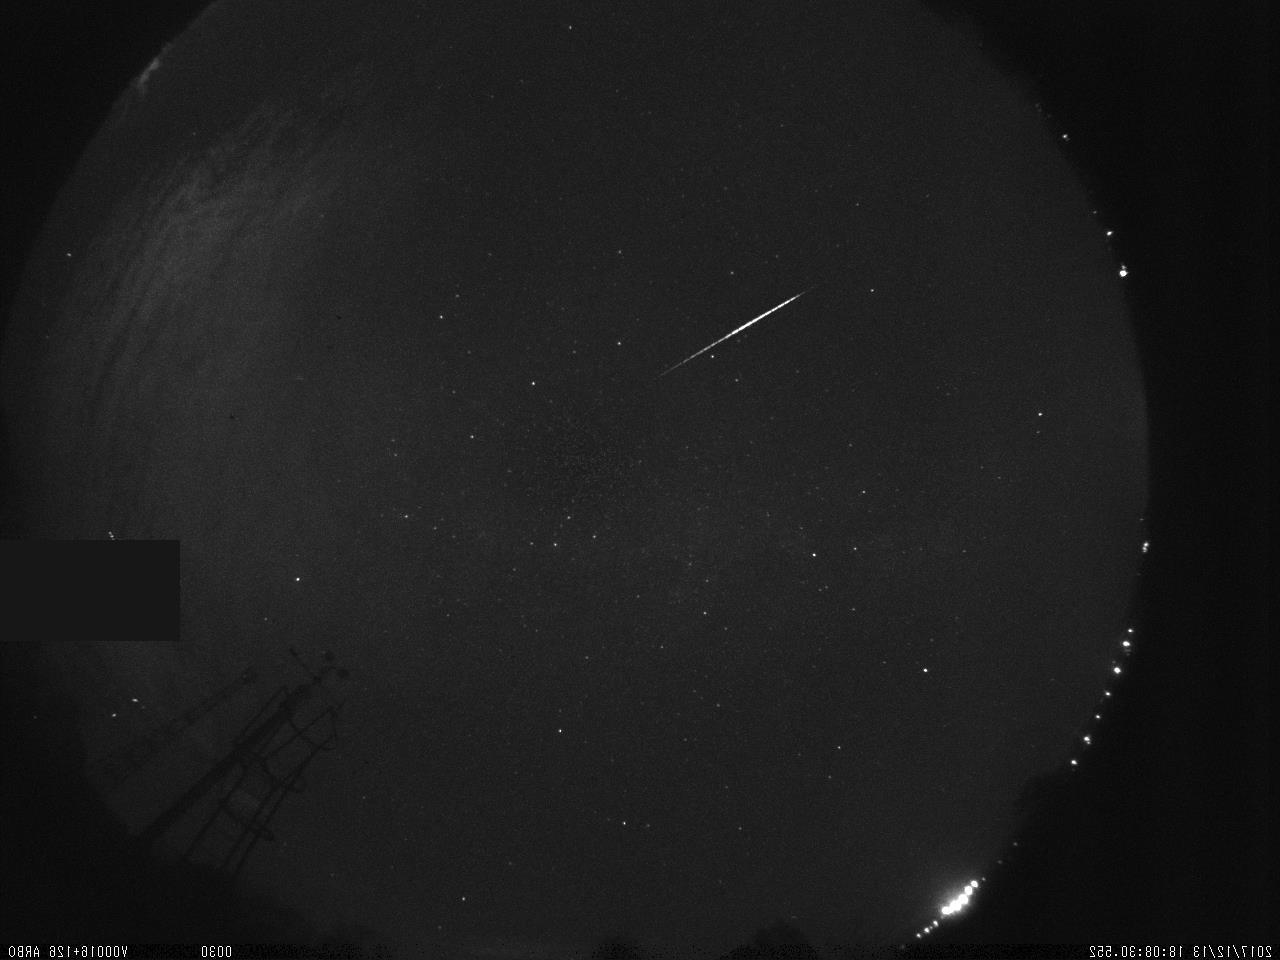meteor: (647, 280, 822, 386)
